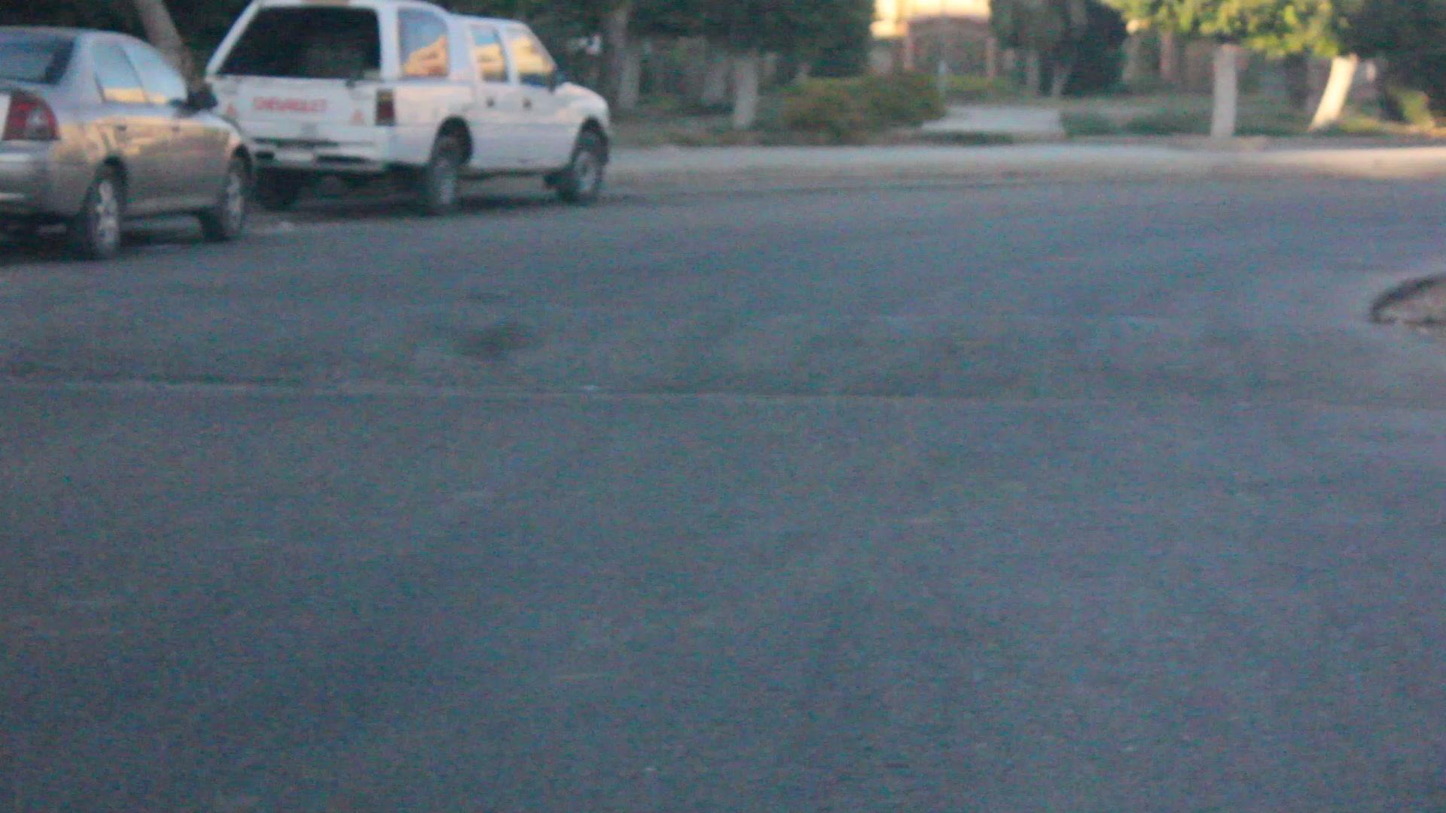Bump: (11, 263, 1446, 412)
Pothole: (1382, 267, 1446, 384)
